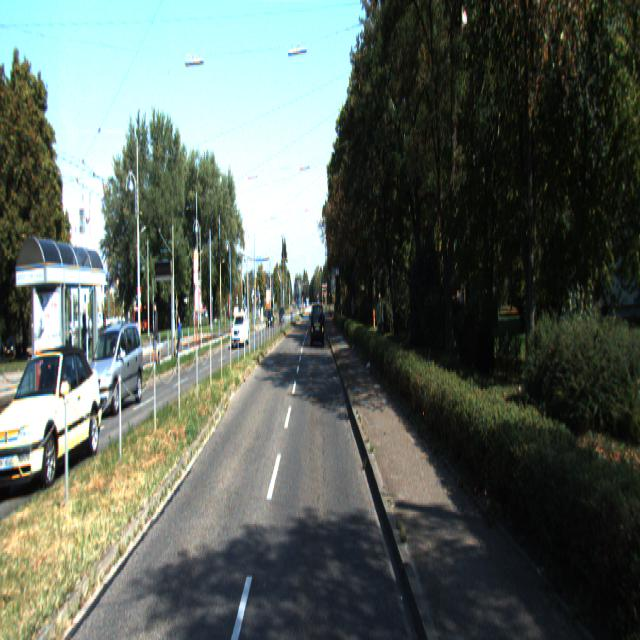Car: (0, 346, 106, 498), (86, 320, 144, 417), (311, 302, 325, 348), (232, 314, 249, 350)
